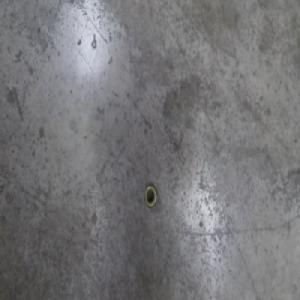Nut: (143, 184, 156, 210)
